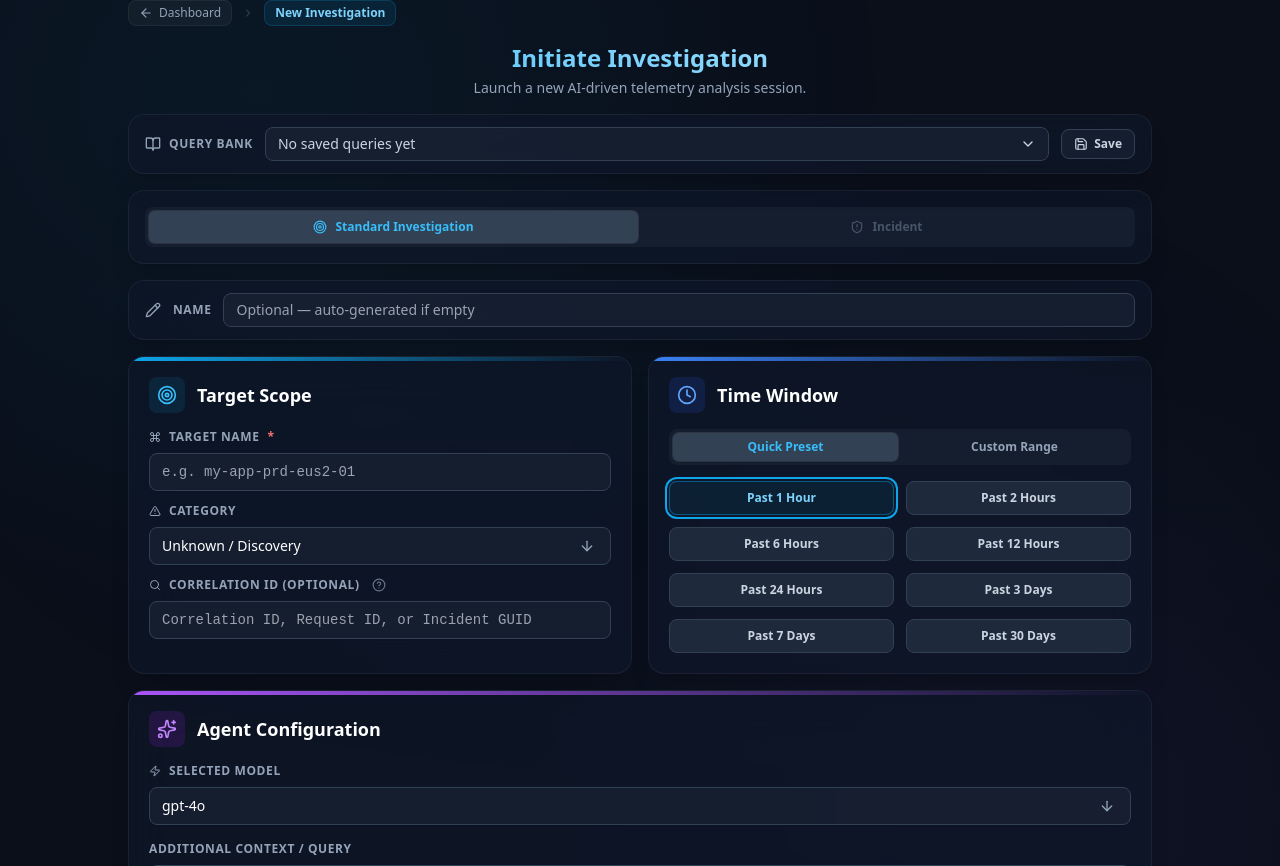
Test case: NewInvestigation › switches to custom time range mode
The width and height of the screenshot is (1280, 866).
Expected: the heading "Initiate Investigation" is shown, [128,42,1152,74]
Step 1. Click the button "Custom Range" → point(1014, 447), box [902,433,1127,461]
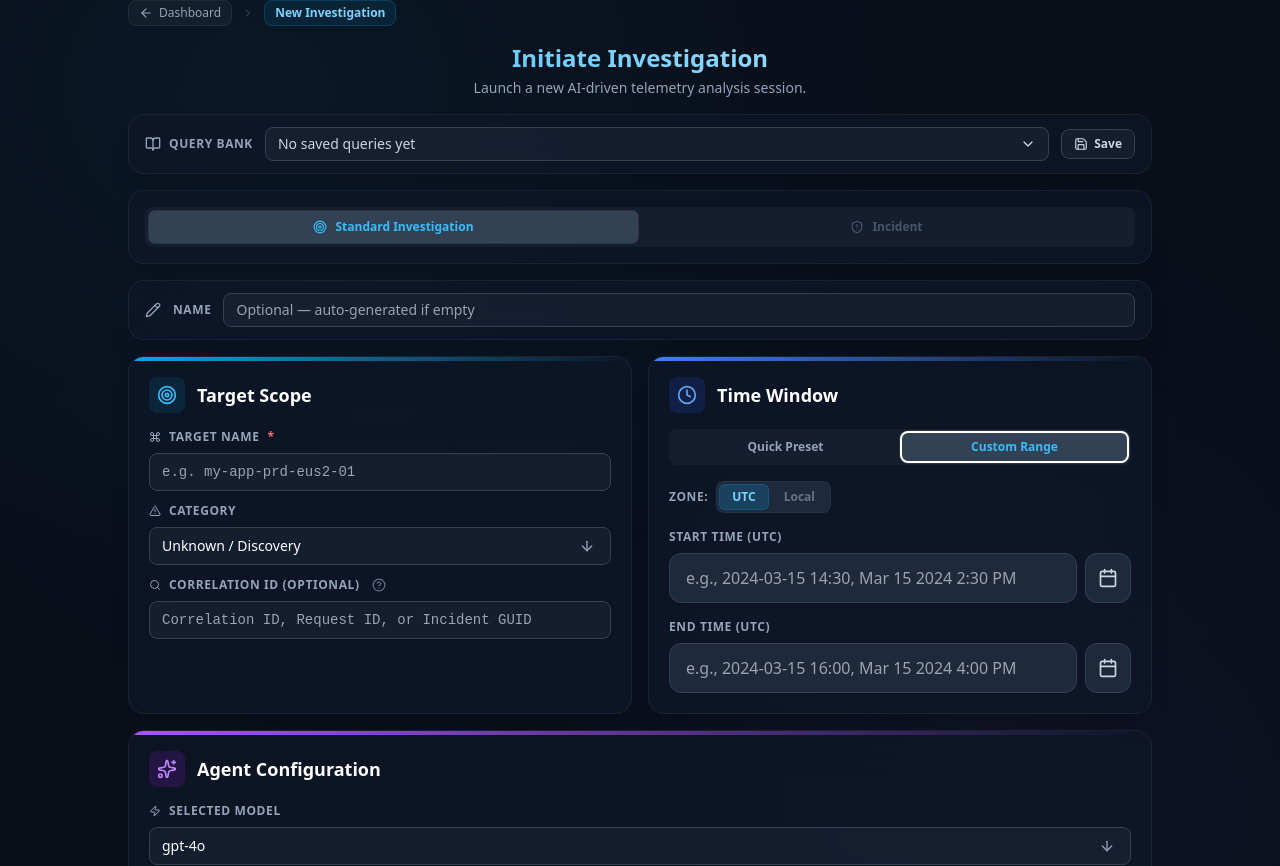
Expected: the field with placeholder "e.g., 2024-03-15 14:30, Mar 15 2024 2:30 PM" is shown, [669,553,1077,603]
